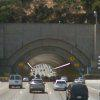Car: (25, 73, 47, 96)
